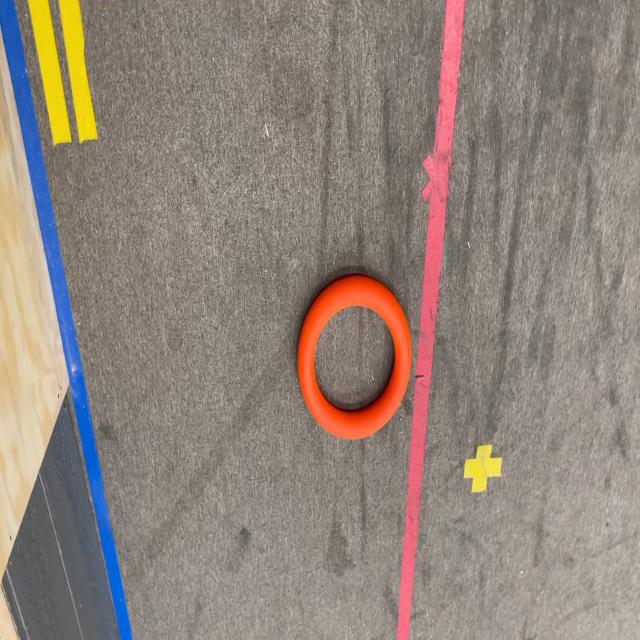note: (297, 276, 411, 440)
